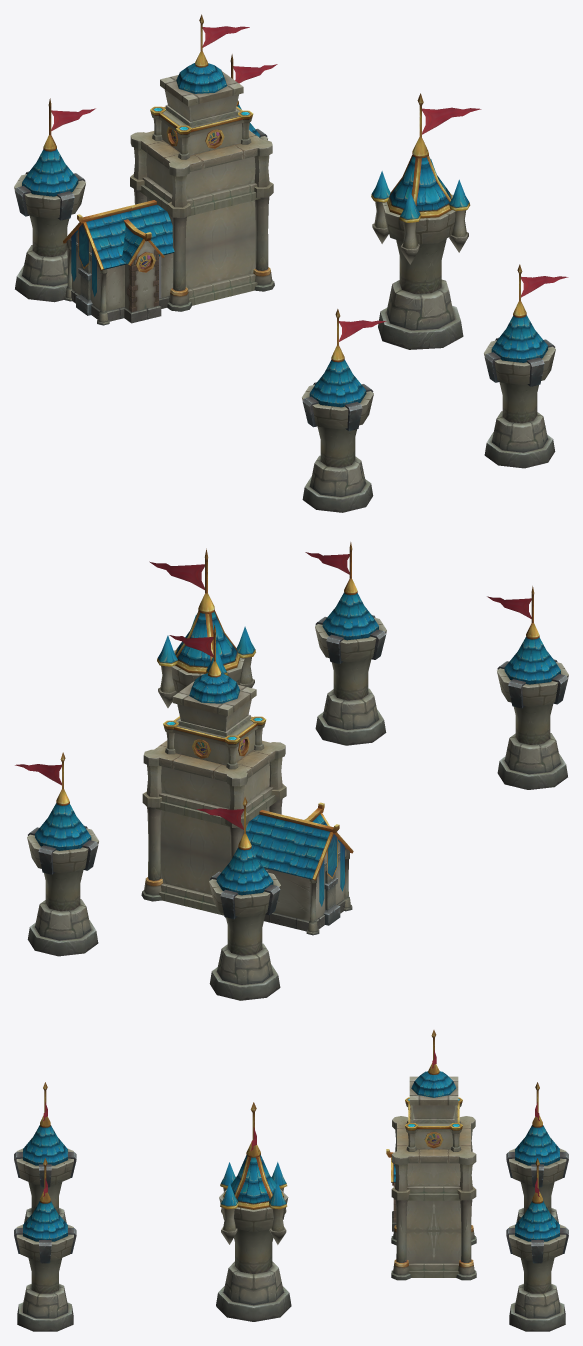
File: JTZD_ZD_03.FBX
The picture shows the model from 3 angles, top to bottom: view 1: azimuth 30°, elevation 25°; view 2: azimuth 150°, elevation 25°; view 3: azimuth 270°, elevation 25°; orthographic projection. The views are drawn at different scales.
Visible parts, largest first — view 1: Object12, Object05; view 2: Object12, Object05; view 3: Object12, Object05.
Boxes of the visible parts, box(x1,y1,x2,y2) form: Object12: box(14, 14, 568, 512); Object05: box(22, 63, 547, 407); Object12: box(15, 542, 568, 1000); Object05: box(35, 592, 560, 895); Object12: box(14, 1030, 568, 1331); Object05: box(23, 1071, 559, 1241).
Bounding box in the file's own units: 865 × 823 × 1639.
